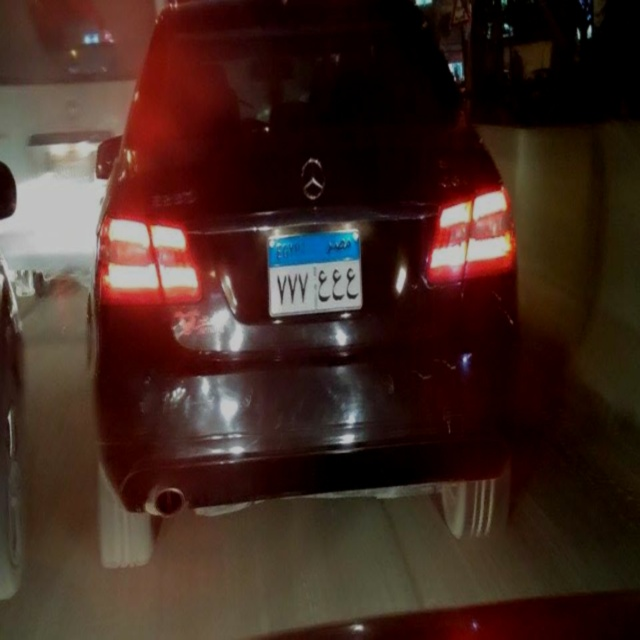License Plate: (267, 226, 364, 319)
